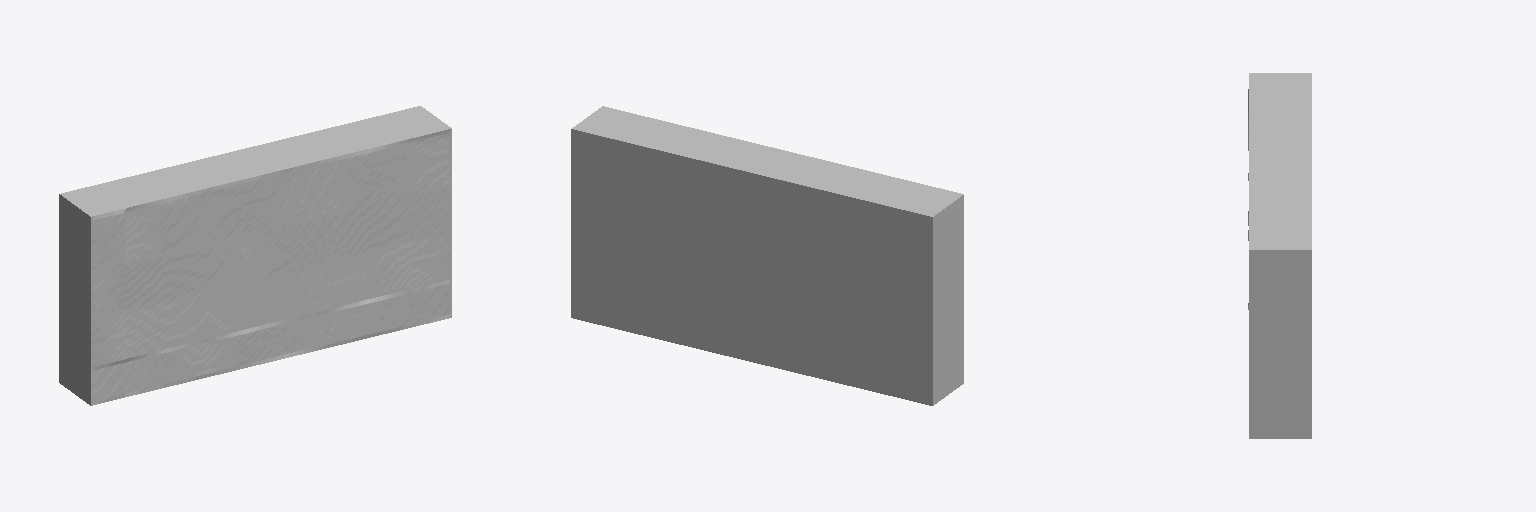
Rendered from rectangular_prism_bumps_5_5.obj.
3 views of the same model, side by side, from view 1: azimuth 30°, elevation 25°; view 2: azimuth 150°, elevation 25°; view 3: azimuth 270°, elevation 25° (orthographic).
Bounding box in the file's own units: 10 × 5 × 1.52.